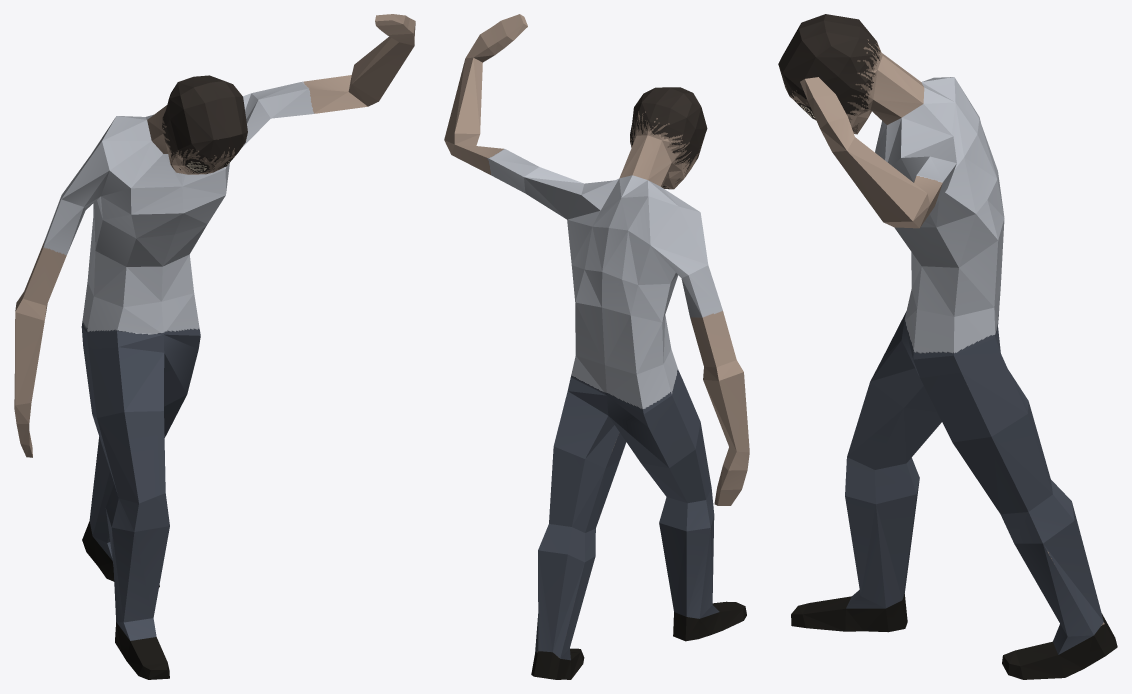
The model's file is AntagonsitPose1.fbx.
The picture shows the model from 3 angles, left to right: view 1: azimuth 30°, elevation 25°; view 2: azimuth 150°, elevation 25°; view 3: azimuth 270°, elevation 25°; orthographic projection. The views are drawn at different scales.
Parts seen in each view (by area): view 1: Characters_01.001; view 2: Characters_01.001; view 3: Characters_01.001.
Boxes of the visible parts, bbox=[...] form: Characters_01.001: bbox=[14, 14, 415, 679]; Characters_01.001: bbox=[444, 14, 749, 679]; Characters_01.001: bbox=[778, 14, 1117, 679].
Size of the model in its own units: 146 by 239 by 109.
